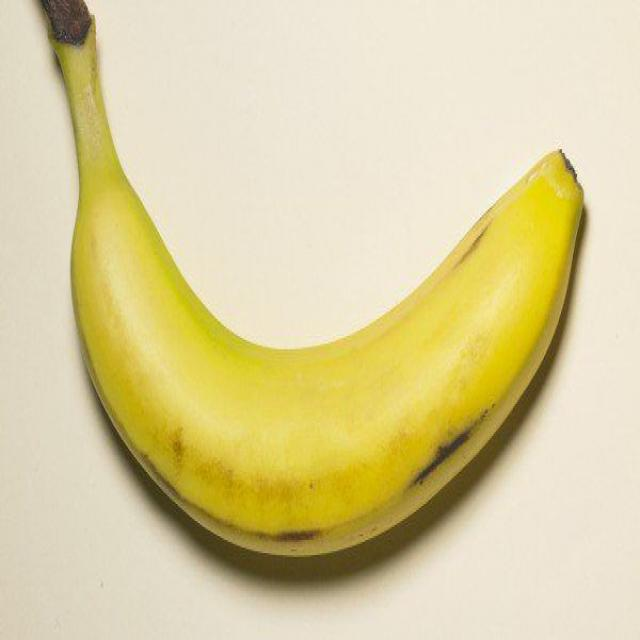Banana: (45, 0, 585, 564)
